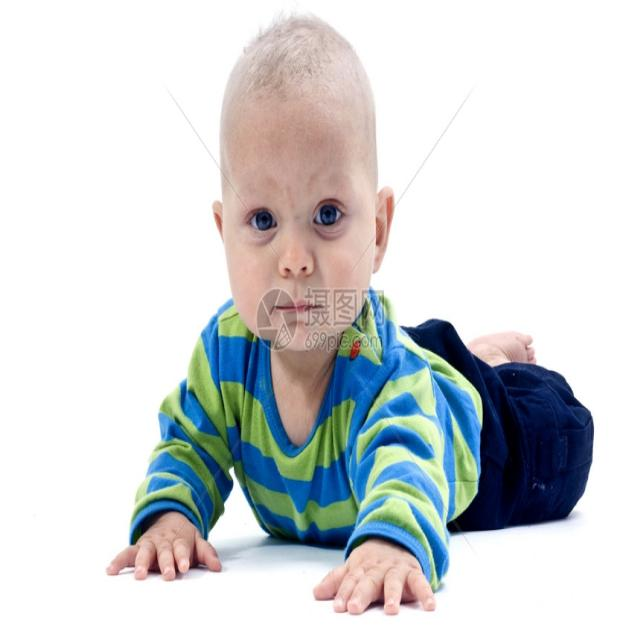lie: (161, 8, 600, 578)
